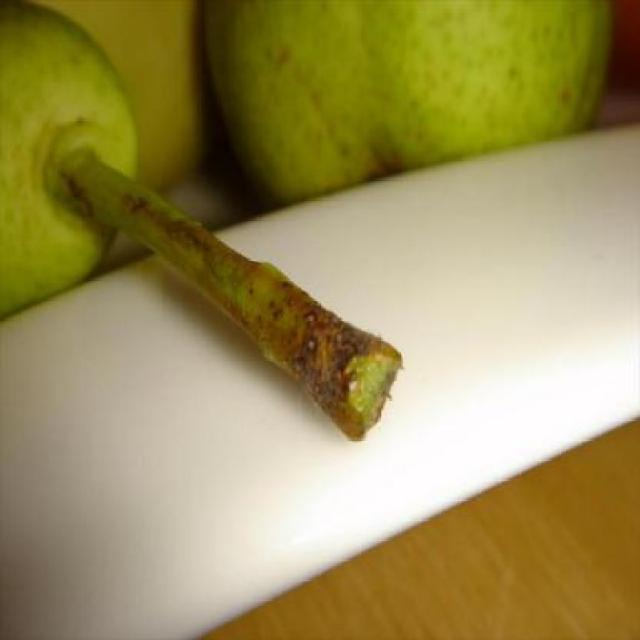Pear: (196, 0, 617, 198), (0, 0, 142, 320)
